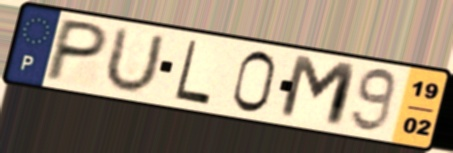0: (229, 49, 280, 114)
9: (345, 66, 399, 136)
L: (171, 37, 214, 108)
M: (275, 52, 361, 132)
P: (39, 16, 113, 84)
U: (99, 24, 169, 96)
